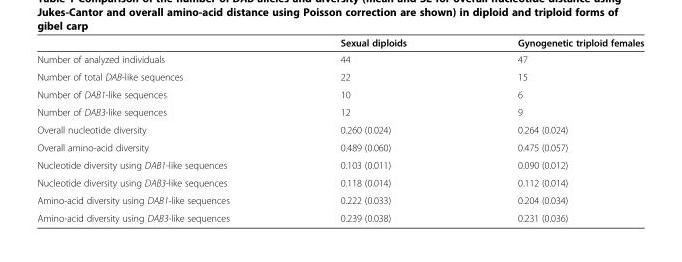table: (36, 36, 643, 223)
table column: (36, 36, 284, 223), (461, 36, 643, 223), (284, 36, 461, 223)
table column header: (36, 36, 643, 50)
table row: (36, 67, 643, 85), (36, 102, 643, 120), (36, 120, 643, 138), (36, 155, 643, 173), (36, 173, 643, 191), (36, 50, 643, 67), (36, 85, 643, 102), (36, 138, 643, 155), (36, 191, 643, 208), (36, 208, 643, 223), (36, 36, 643, 50)
